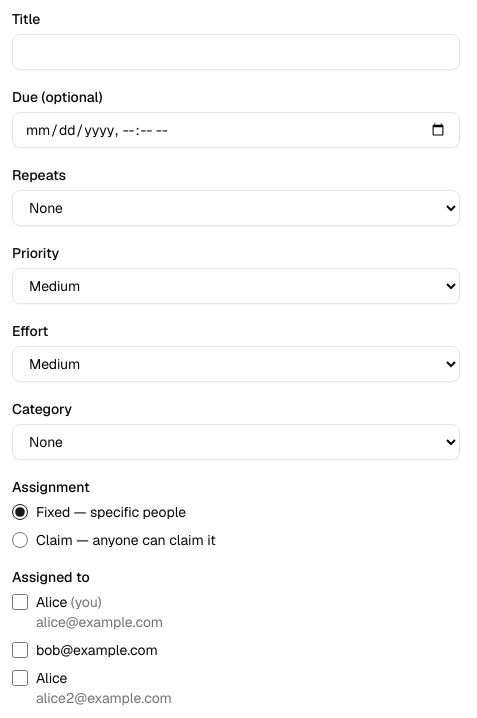
ChoreForm due date › selects None again when the chosen category was refused
The image size is (477, 718).
Select "Kitchen" in the dropdown named "categoryId": (236, 442) [12,424,460,460]
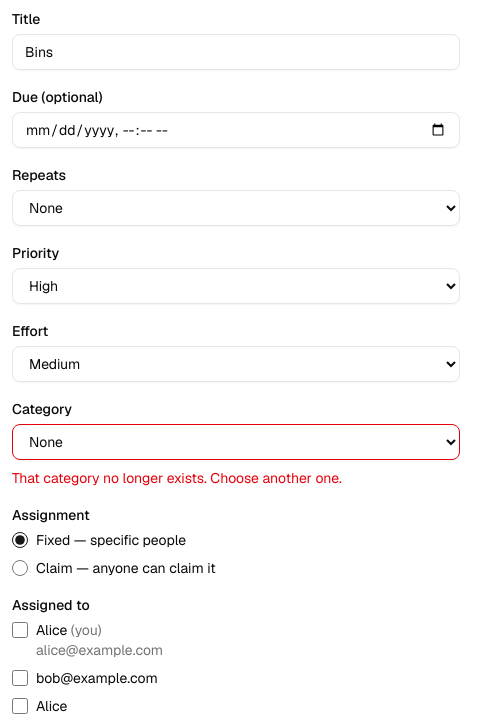
Result: the dropdown named "priority" shows "High" at [12,268,460,304]
